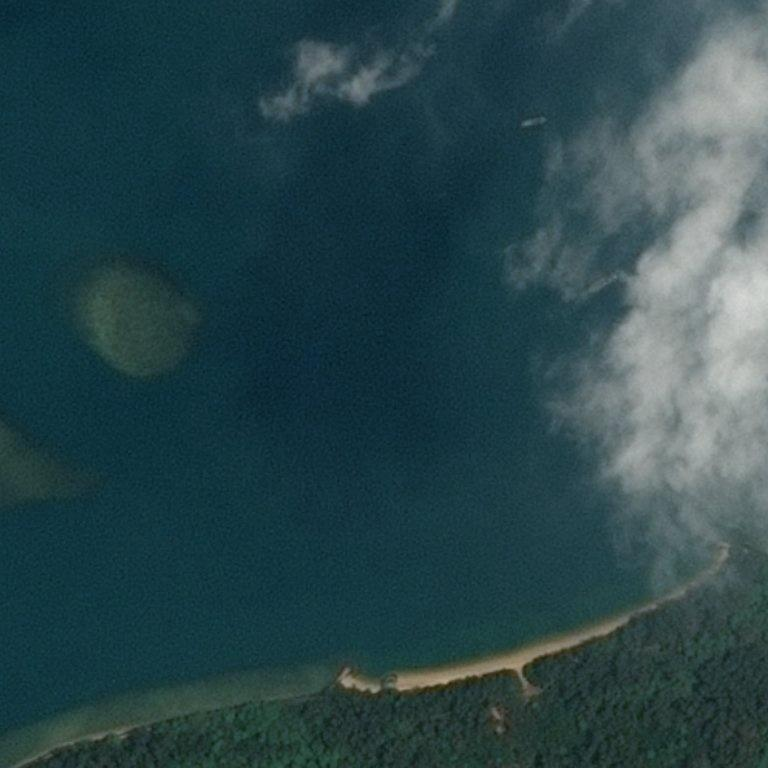ship: (521, 76, 549, 91)
